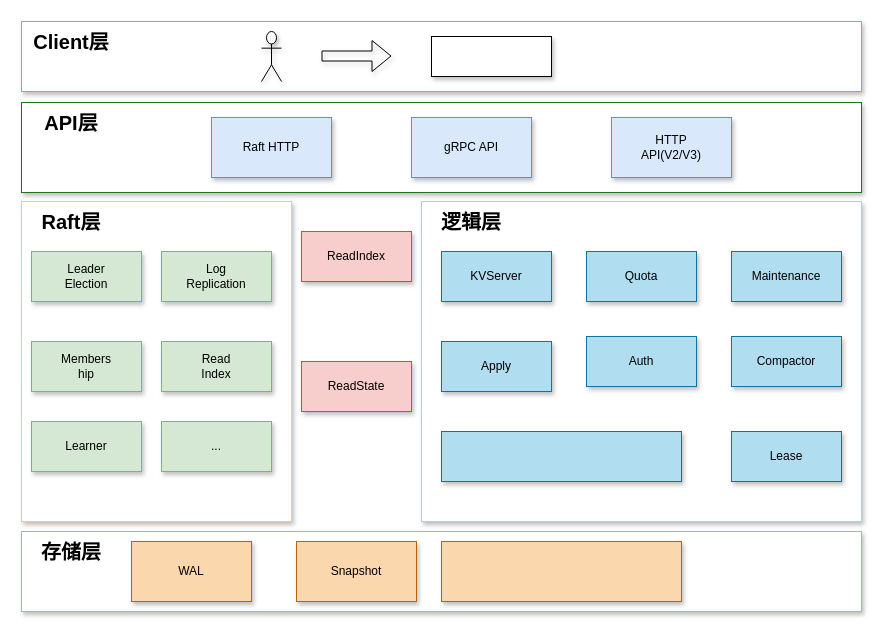
Some shapes in this 885 by 636 pixel diagram are drawn without their labels. The centre of each missing label's shape, as x and y in pixels:
"boltdb" goes at pixel 562 572.
"etcdctl/client3" goes at pixel 492 58.
"treeIndex" goes at pixel 562 457.
